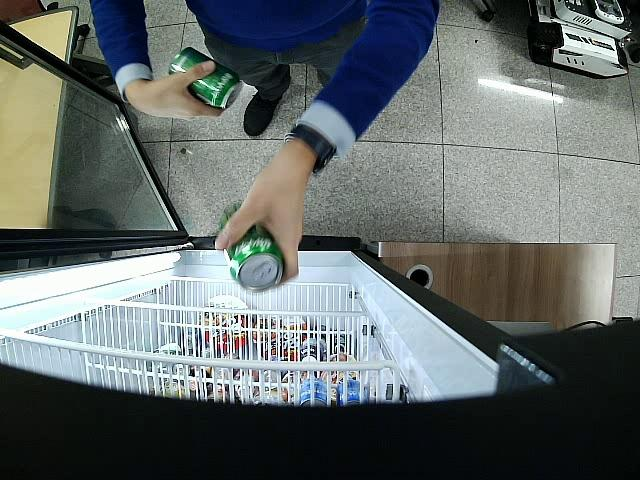00_hand: (216, 145, 310, 283), (151, 61, 227, 121)
12_chilsungCider: (219, 201, 285, 293), (168, 47, 244, 110)
